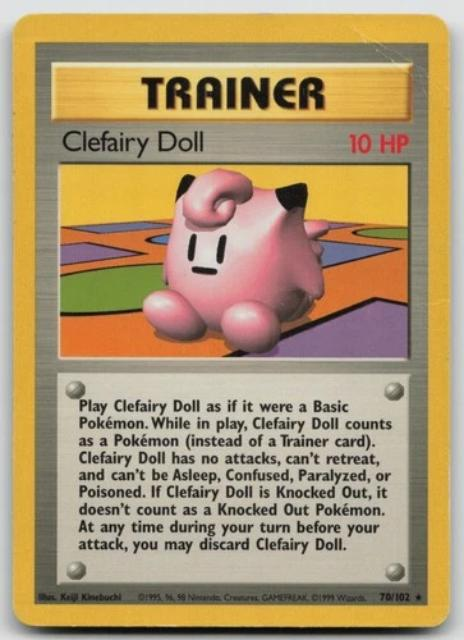Card: (5, 8, 455, 634)
Name: (49, 124, 217, 160)
